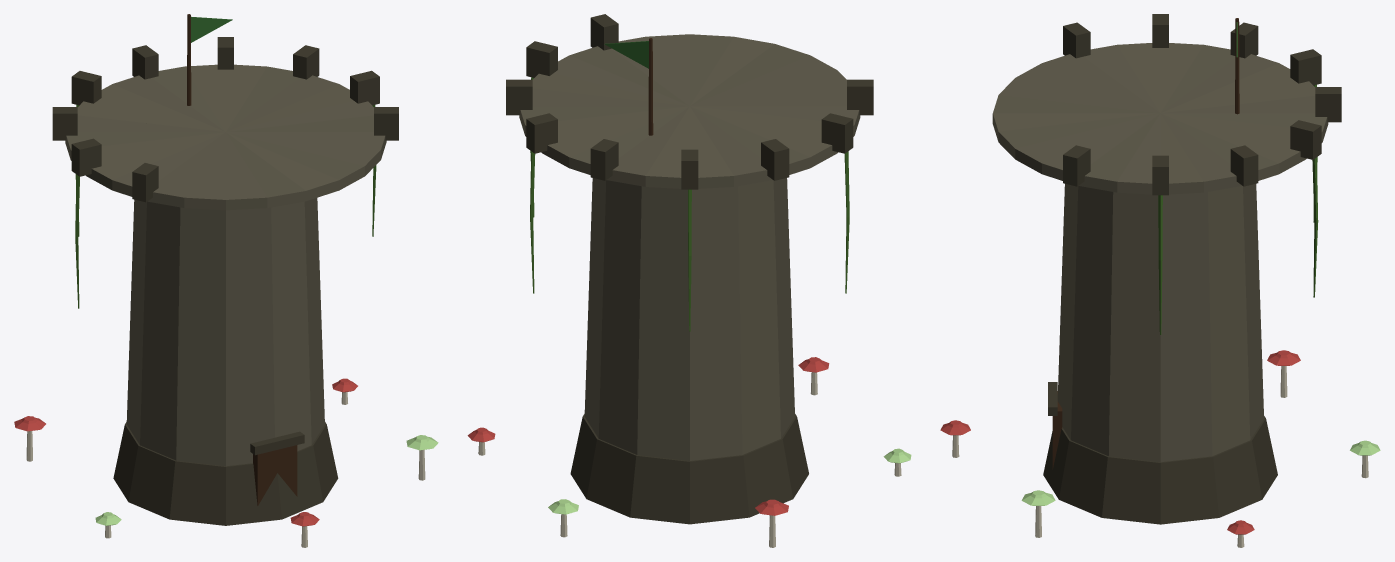
Rendered from tower_forest.glb.
3 views of the same model, side by side, from view 1: azimuth 30°, elevation 25°; view 2: azimuth 150°, elevation 25°; view 3: azimuth 270°, elevation 25° (orthographic). The views are drawn at different scales.
Parts seen in each view (by area): view 1: tower_forest; view 2: tower_forest; view 3: tower_forest.
Part boxes in pixels (x1,y1,x2,y2): tower_forest: (14, 14, 438, 547); tower_forest: (467, 14, 911, 547); tower_forest: (940, 14, 1380, 547).
Bounding box in the file's own units: 16.94 × 21 × 18.37.
